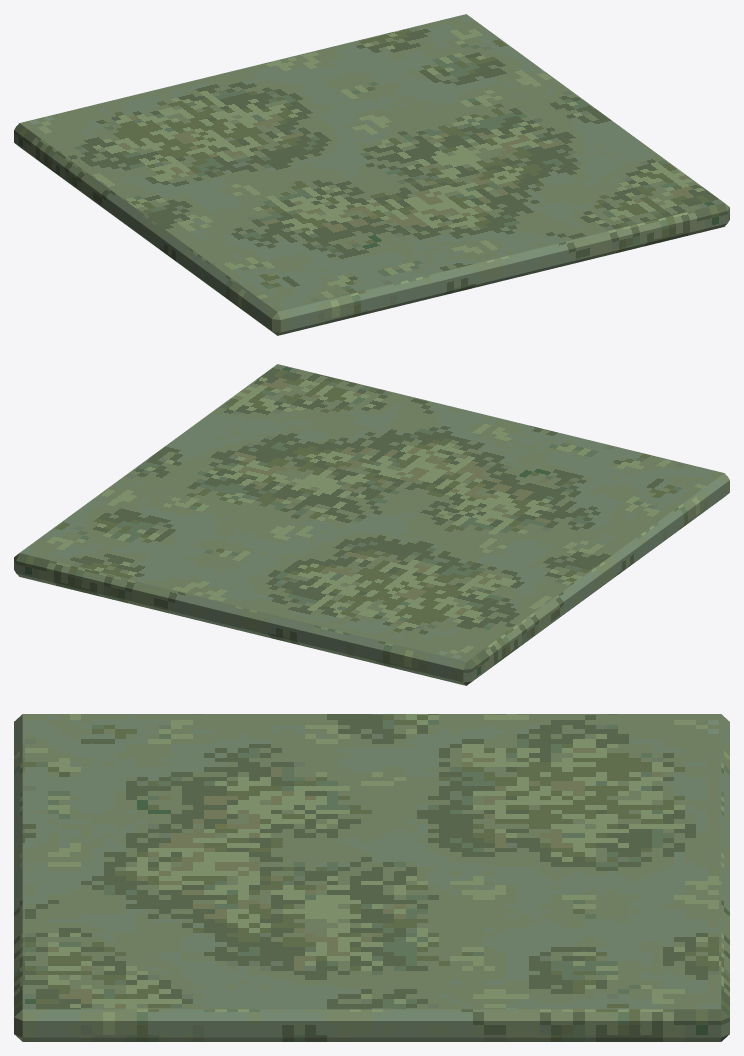
Rendered from topo_a.glb.
3 views of the same model, one above another, from view 1: azimuth 30°, elevation 25°; view 2: azimuth 150°, elevation 25°; view 3: azimuth 270°, elevation 25° (orthographic). The views are drawn at different scales.
Parts seen in each view (by area): view 1: bosque_topo_a; view 2: bosque_topo_a; view 3: bosque_topo_a.
Boxes of the visible parts, left/top/right/bottom form: bosque_topo_a: left=14, top=14, right=729, bottom=335; bosque_topo_a: left=14, top=364, right=729, bottom=685; bosque_topo_a: left=14, top=714, right=729, bottom=1041.
Bounding box in the file's own units: 1 × 0.05 × 1.
1 material, 1 textured.
